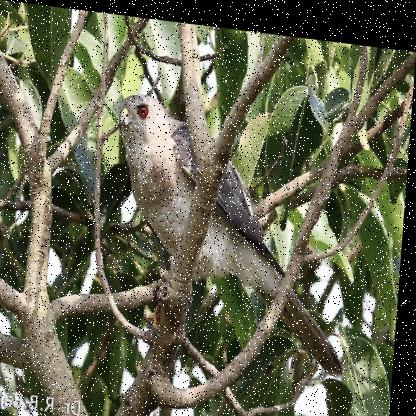Burung: (107, 89, 365, 369)
